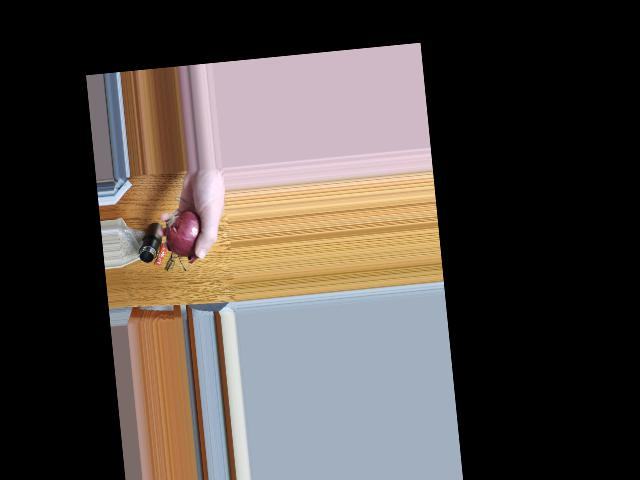onion: (168, 212, 206, 257)
